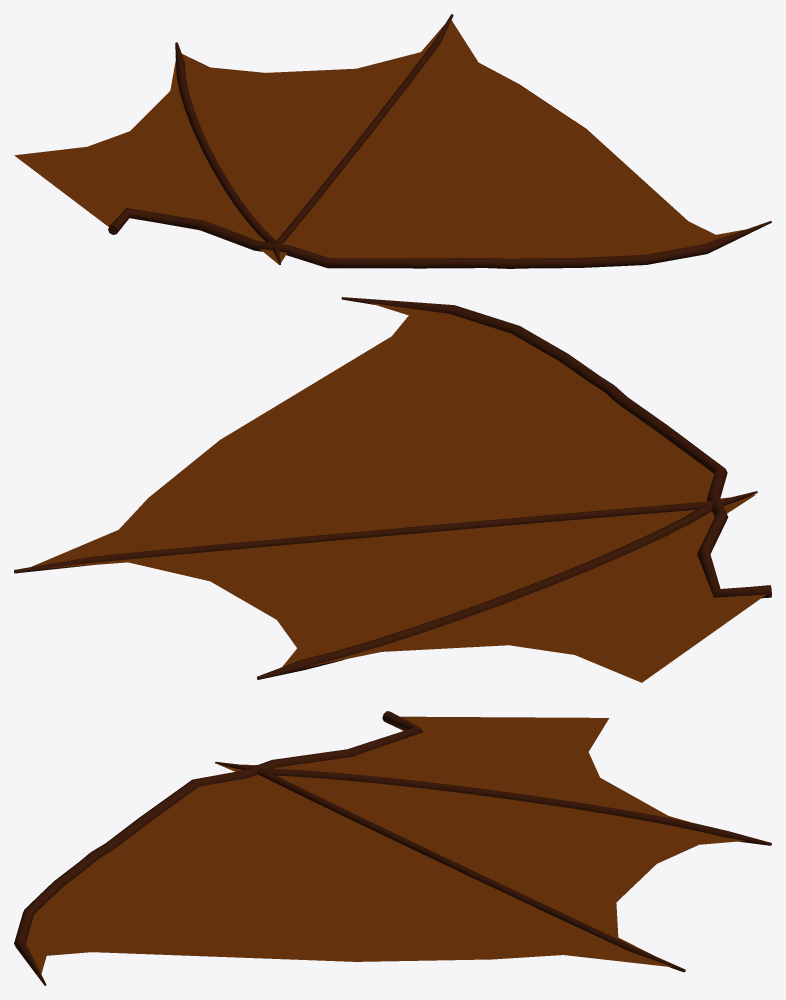
Rendered from snake wing.fbx.
3 views of the same model, one above another, from view 1: azimuth 30°, elevation 25°; view 2: azimuth 150°, elevation 25°; view 3: azimuth 270°, elevation 25° (orthographic). The views are drawn at different scales.
Visible parts, largest first — view 1: wings.002; view 2: wings.002; view 3: wings.002.
Part boxes in pixels (x1,y1,x2,y2): wings.002: [14, 14, 771, 268]; wings.002: [14, 297, 771, 682]; wings.002: [14, 711, 771, 985].
Bounding box in the file's own units: 451 × 8.38 × 535.
